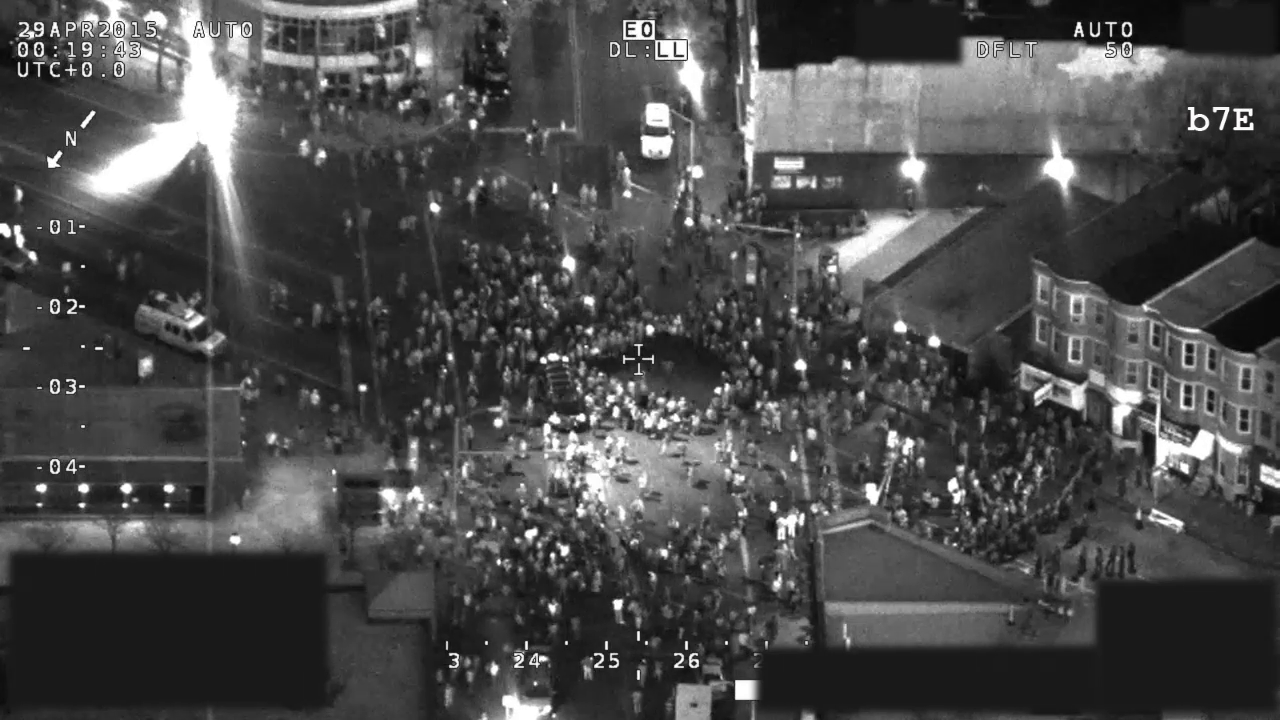vehicle: (128, 281, 235, 370), (537, 353, 593, 433), (514, 639, 561, 715), (636, 99, 679, 168), (472, 39, 515, 108), (691, 652, 730, 703), (1, 235, 43, 282)
